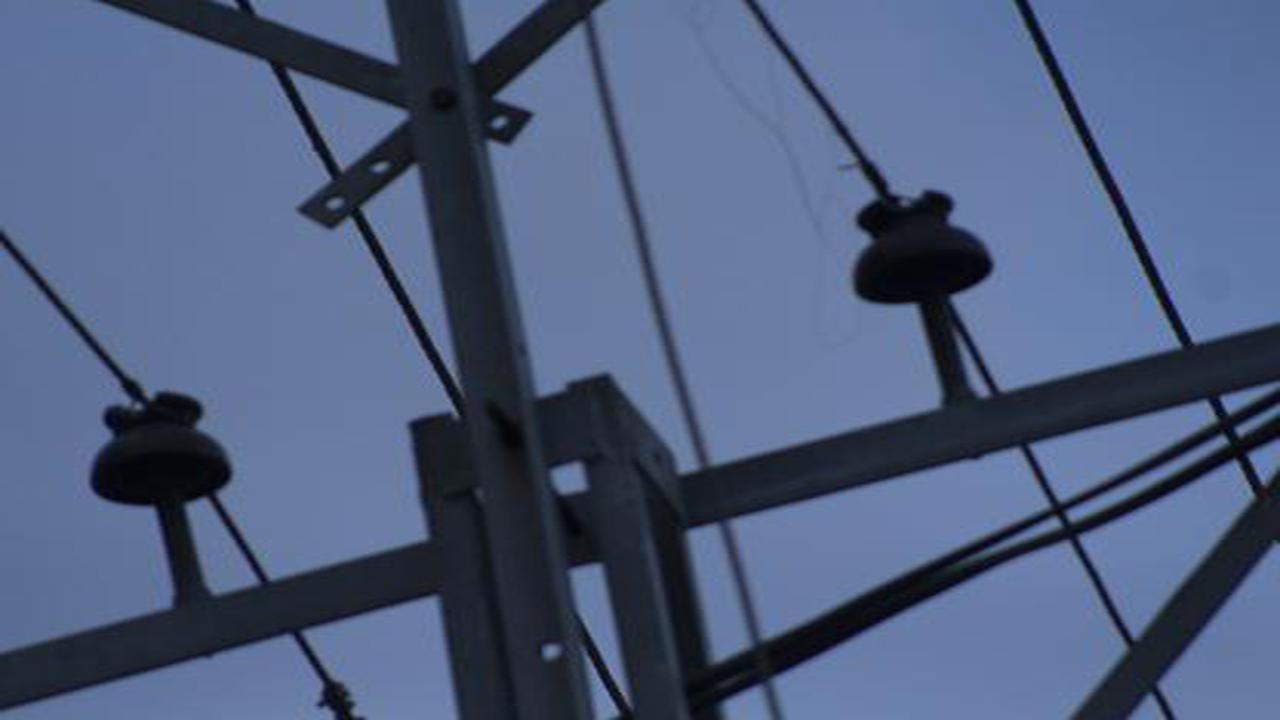insulator_pin: (846, 187, 1003, 318), (83, 387, 238, 516)
